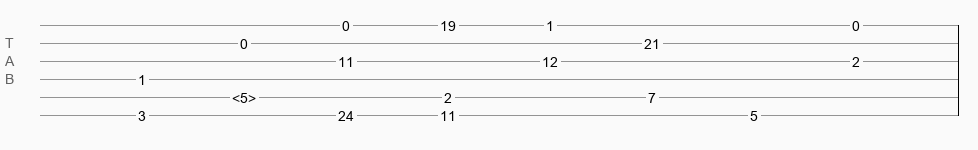0: (240, 36, 248, 46), (342, 18, 350, 28), (852, 18, 860, 28)
1: (138, 72, 146, 82), (546, 18, 554, 28)
11: (338, 54, 354, 64), (440, 108, 456, 118)
12: (542, 54, 558, 64)
19: (440, 18, 456, 28)
2: (444, 90, 452, 100), (852, 54, 860, 64)
21: (644, 36, 660, 46)
24: (338, 108, 354, 118)
3: (138, 108, 146, 118)
5: (750, 108, 758, 118)
7: (648, 90, 656, 100)
harmonic: (232, 90, 256, 100)
